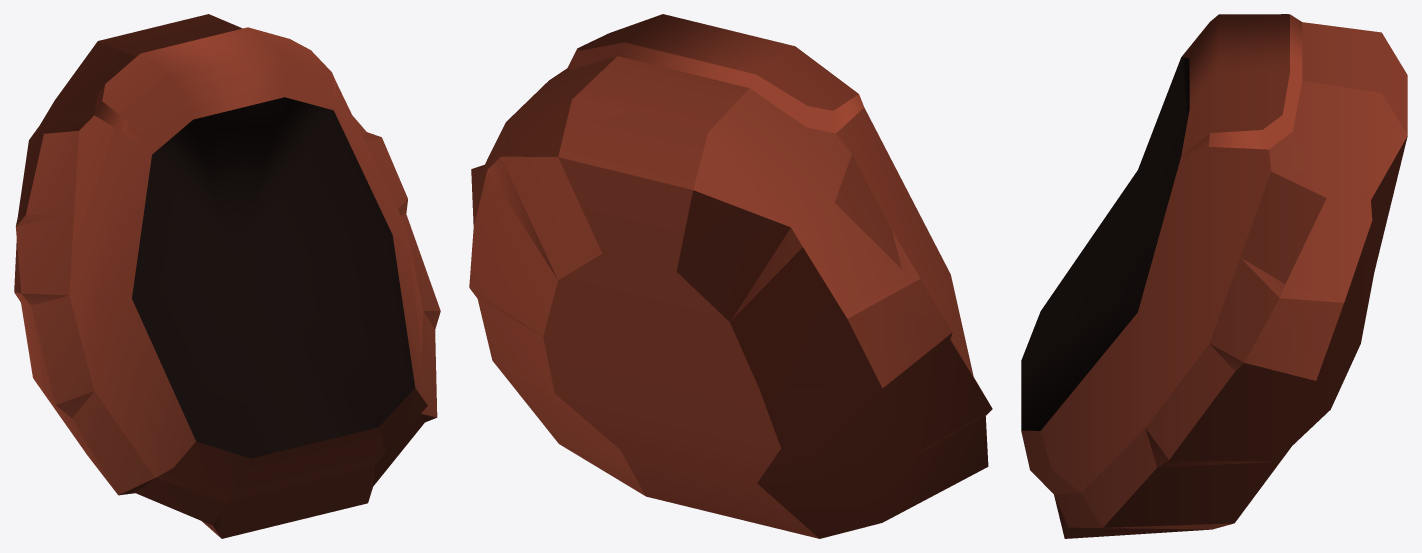
The model's file is Beret.glb.
3 views of the same model, side by side, from view 1: azimuth 30°, elevation 25°; view 2: azimuth 150°, elevation 25°; view 3: azimuth 270°, elevation 25° (orthographic). The views are drawn at different scales.
Visible parts, largest first — view 1: Beret; view 2: Beret; view 3: Beret.
Boxes of the visible parts, bbox=[...] form: Beret: bbox=[14, 14, 440, 538]; Beret: bbox=[469, 14, 992, 538]; Beret: bbox=[1021, 14, 1407, 538].
Size of the model in its own units: 0.3458 by 0.3476 by 0.2674.
Materials: 1 (1 with a texture image).
